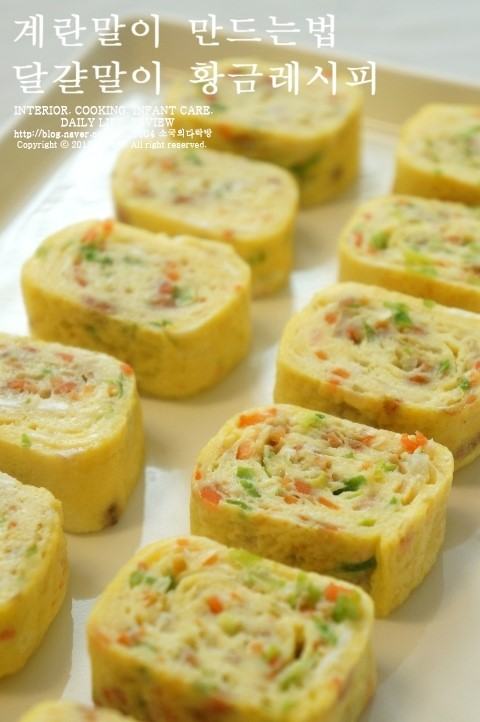gyelanmal-i: (4, 74, 479, 715)
